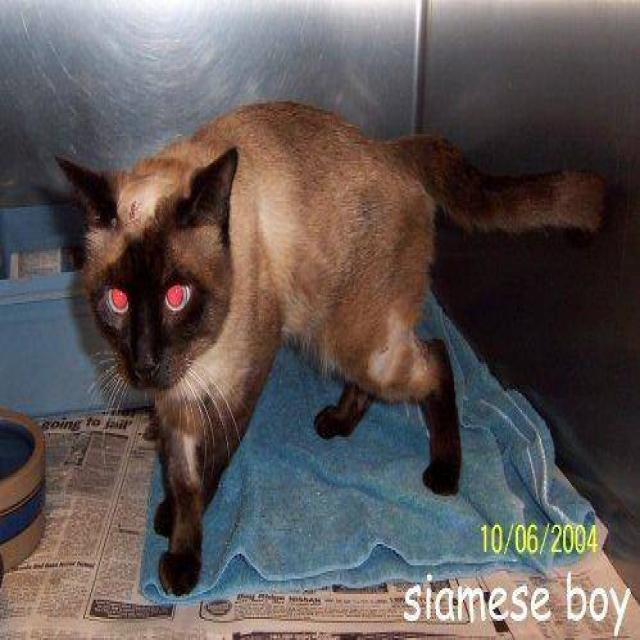cat: (53, 98, 608, 596)
